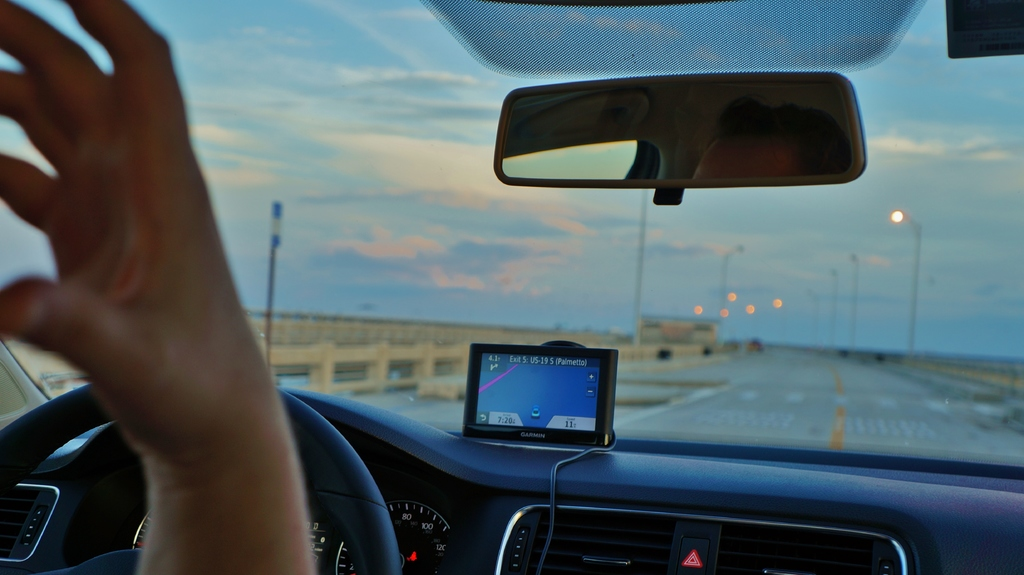Car: (0, 0, 1023, 574), (748, 340, 764, 353)
